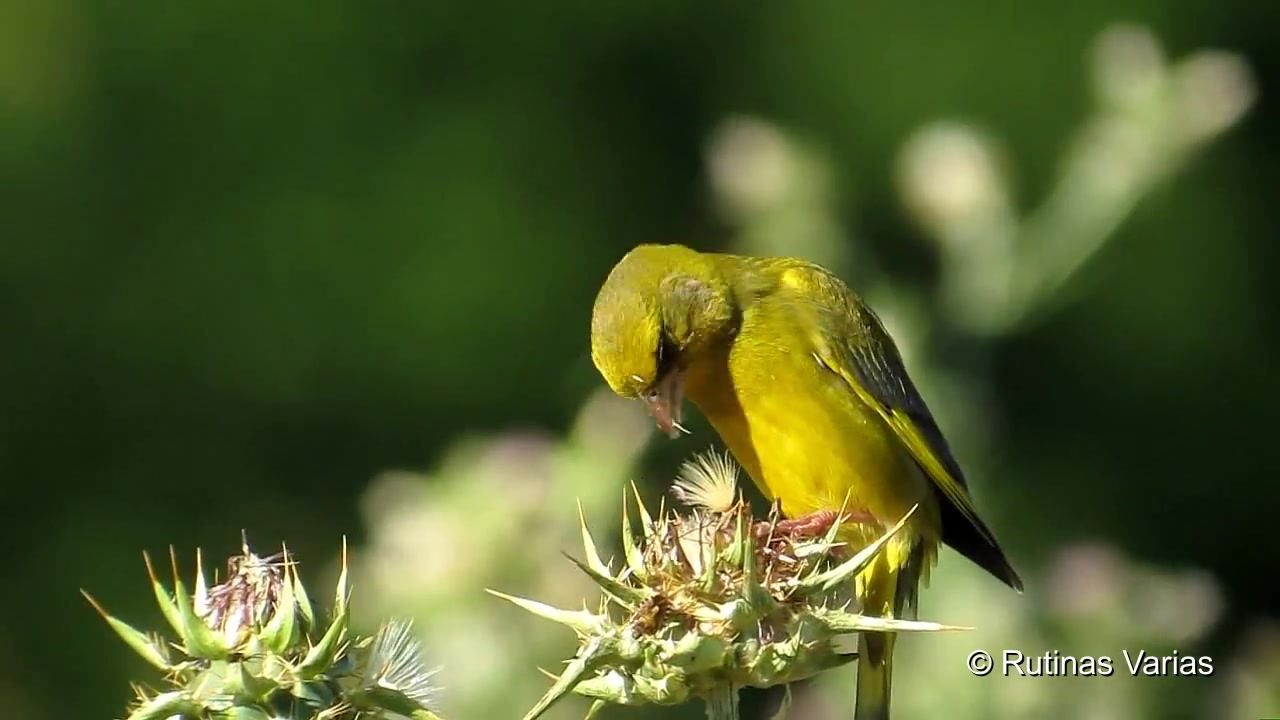bird: (587, 240, 1029, 720)
